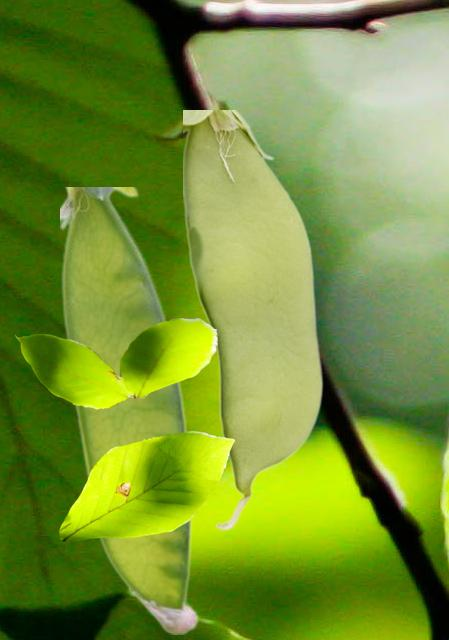pea: (60, 187, 198, 633), (183, 110, 322, 530)
